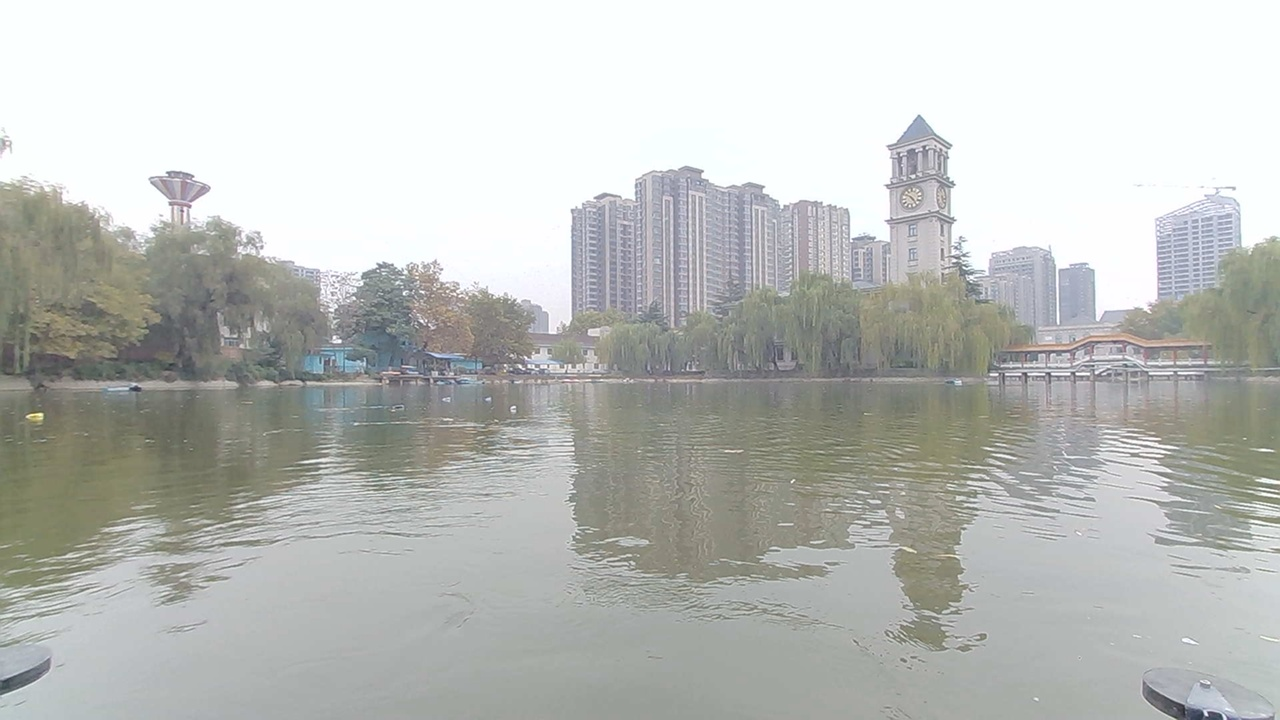bottle: (379, 394, 415, 424), (18, 405, 51, 429), (501, 393, 528, 421), (436, 386, 462, 412), (474, 386, 501, 406)
